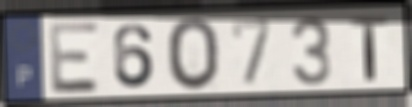3: (289, 15, 332, 87)
6: (111, 22, 157, 90)
7: (229, 16, 273, 88)
E: (46, 18, 102, 96)
O: (165, 15, 223, 93)
T: (348, 14, 389, 83)
